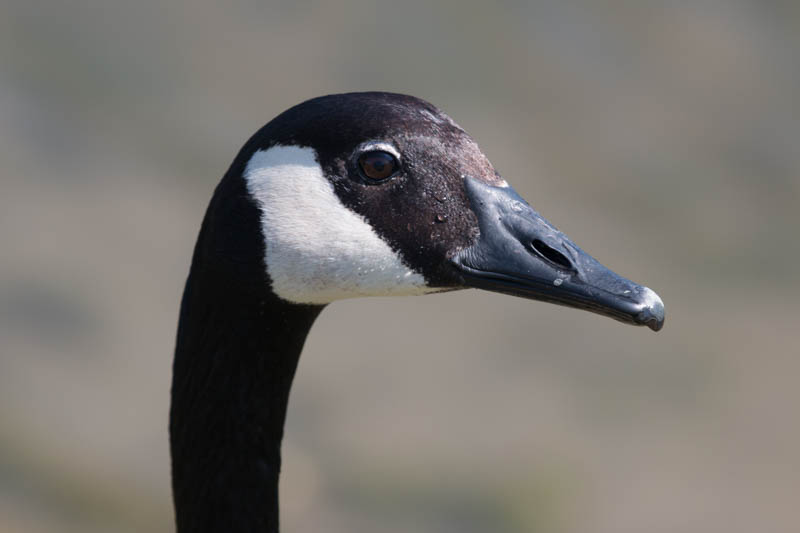goose-head: (187, 93, 665, 331)
